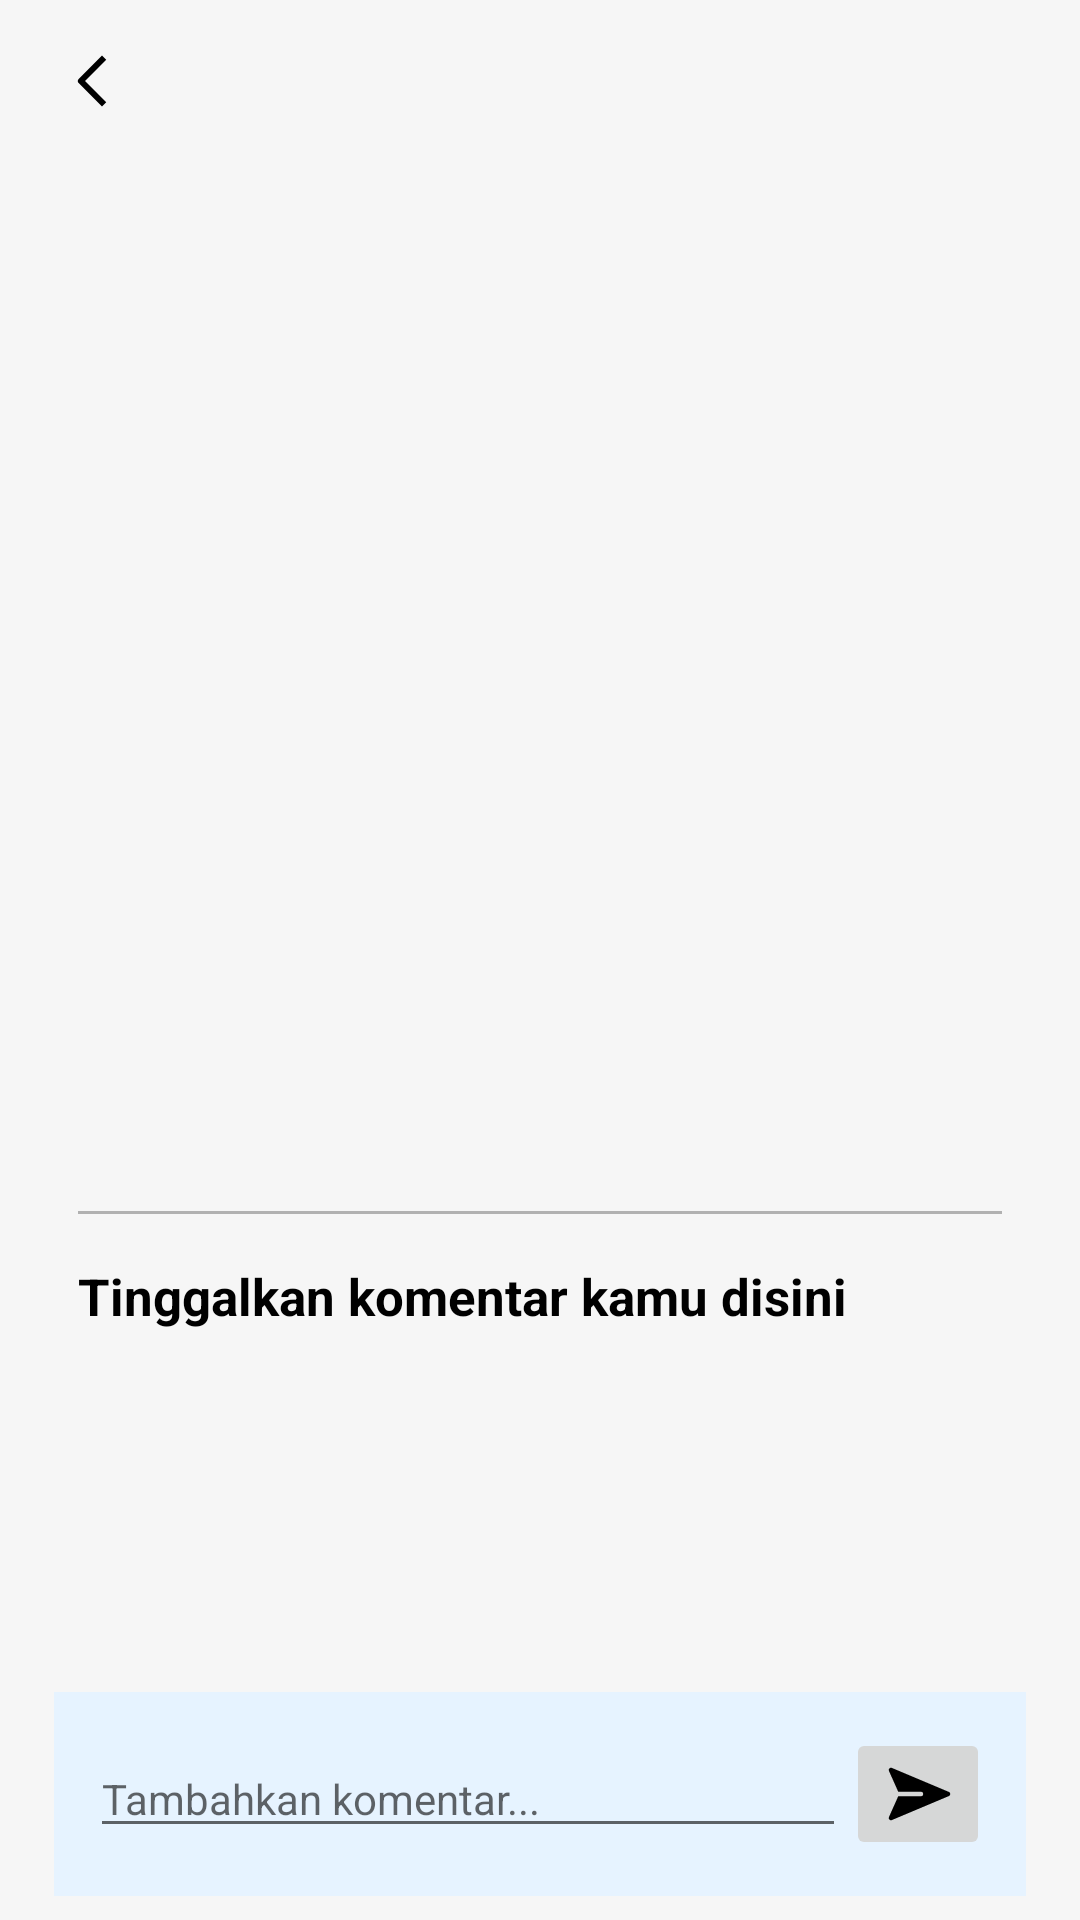

Named icons in this screenshot (1080px×1920px) and their bounding boxes, (x1, y1, x2, y2):
Kembali: (77, 55, 106, 107)
Kirim komentar: (858, 1746, 978, 1842)
